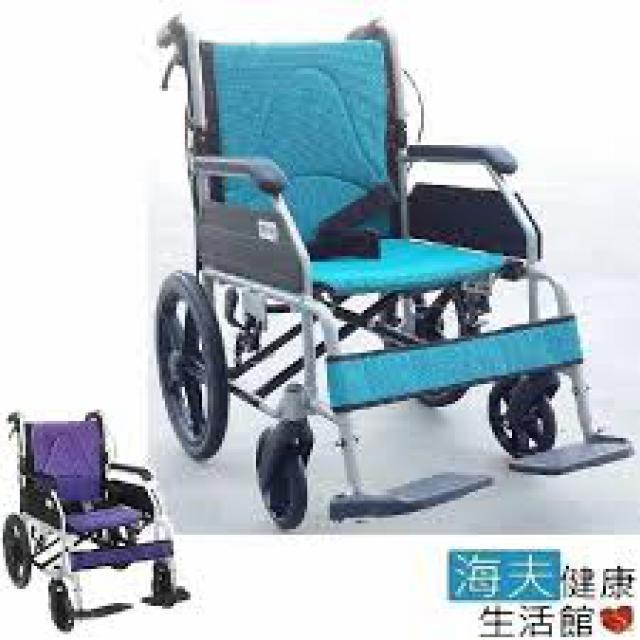wheelchair: (122, 6, 637, 530), (0, 404, 191, 637)
